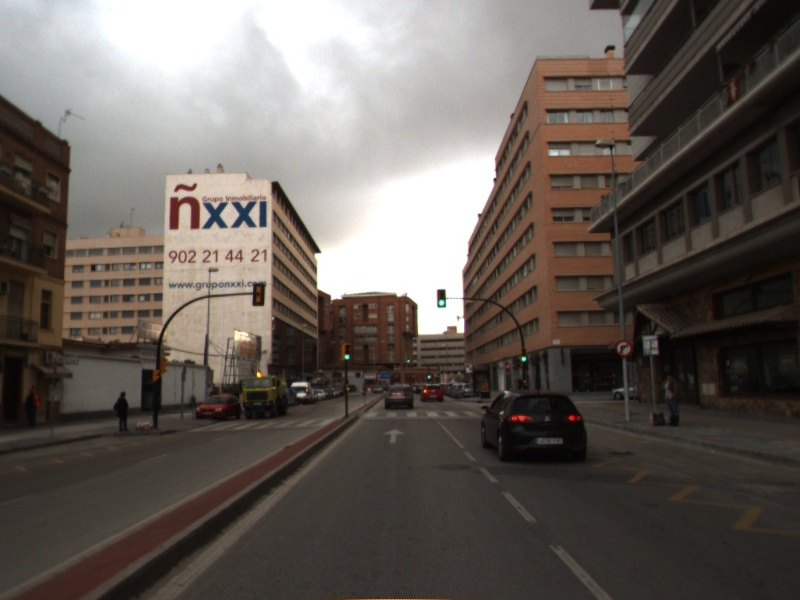STRAIGHT: (380, 426, 407, 446)
